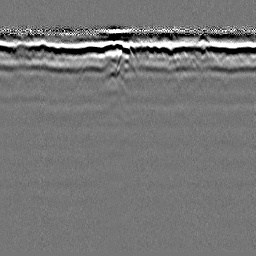cavity: (114, 43, 135, 70)
